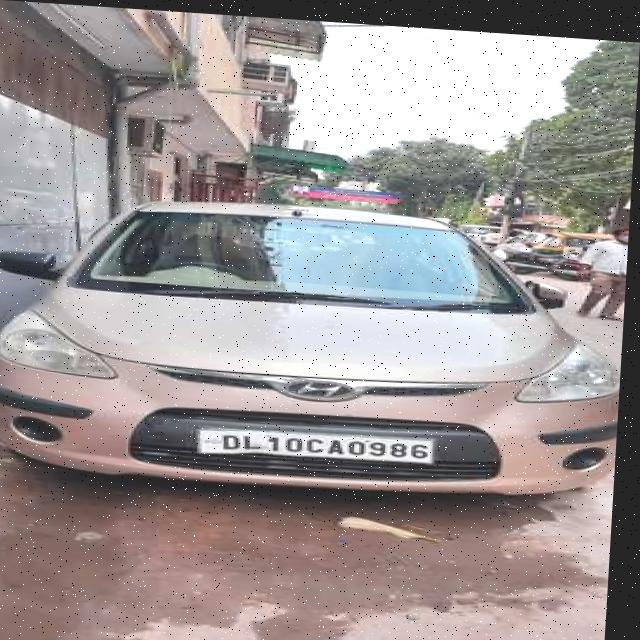plate: (205, 420, 441, 461)
